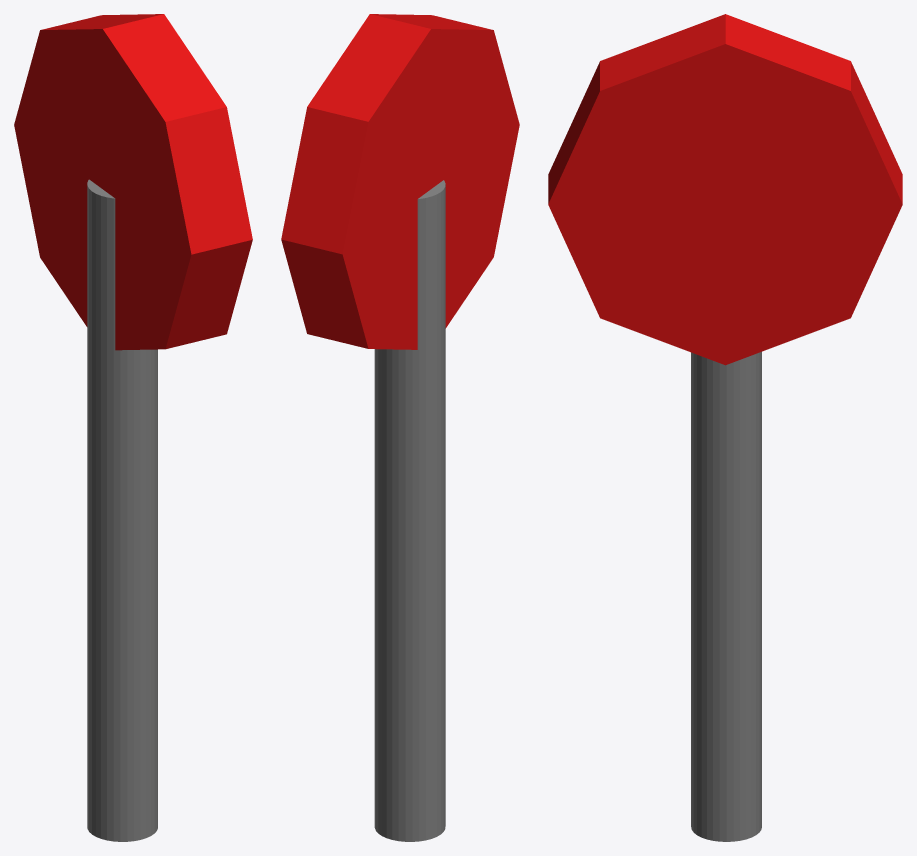
File: StopSign.fbx
3 renders of one model, left to right at view 1: azimuth 30°, elevation 25°; view 2: azimuth 150°, elevation 25°; view 3: azimuth 270°, elevation 25°, orthographic.
Parts seen in each view (by area): view 1: Cylinder.001, Cylinder; view 2: Cylinder.001, Cylinder; view 3: Cylinder.001, Cylinder.
Boxes of the visible parts, <box> form: Cylinder.001: <box>14,14,252,350</box>; Cylinder: <box>87,179,157,841</box>; Cylinder.001: <box>281,14,519,349</box>; Cylinder: <box>374,180,445,841</box>; Cylinder.001: <box>548,14,902,365</box>; Cylinder: <box>691,351,761,841</box>.
Size of the model in its own units: 23.33 by 250 by 100.
